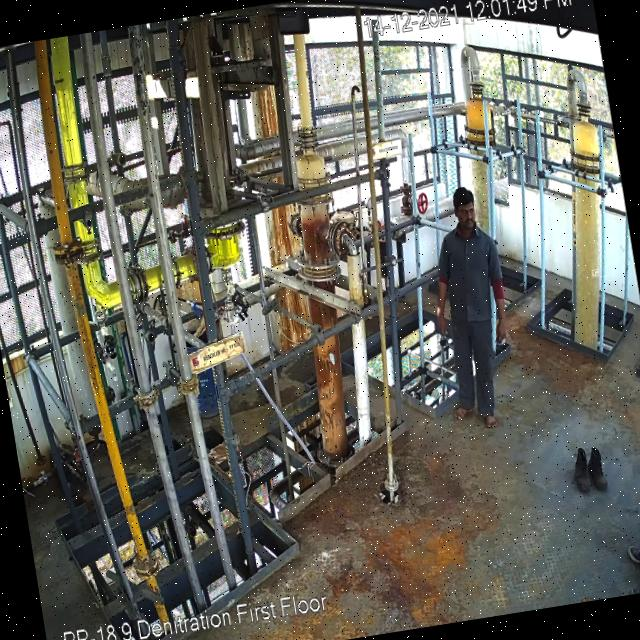boots: (568, 444, 598, 496), (586, 446, 611, 490)
no-boots: (449, 403, 476, 421), (480, 412, 499, 434)
